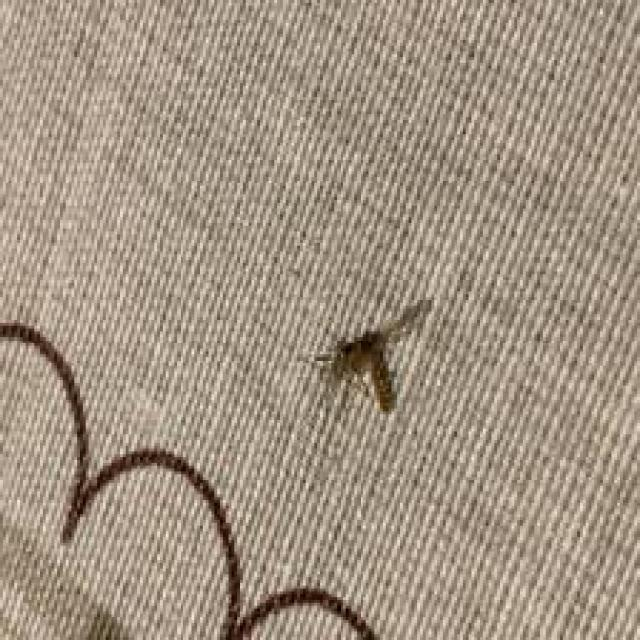Culex: (307, 294, 436, 414)
